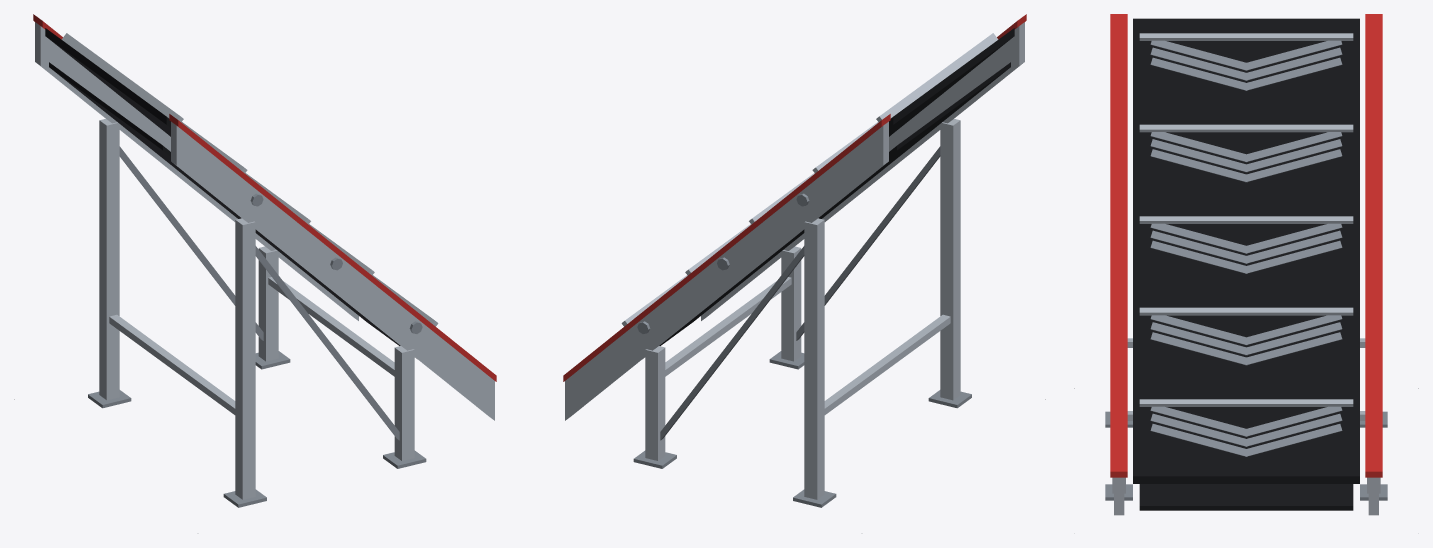
Rendered from convoyeur_rampe_descente_t3.glb.
3 views of the same model, side by side, from view 1: azimuth 30°, elevation 25°; view 2: azimuth 150°, elevation 25°; view 3: azimuth 270°, elevation 25° (orthographic). The views are drawn at different scales.
Visible parts, largest first — view 1: pieces_gris_clair.016, longeron_-1.024, pieces_acier.054, longeron_1.024, rive_-1.024, bande_gris_clair.004, tapis_retour.024, tapis_porteur.024; view 2: pieces_gris_clair.016, longeron_1.024, pieces_acier.054, longeron_-1.024, rive_1.024, bande_gris_clair.004, tapis_retour.024, tapis_porteur.024; view 3: tapis_porteur.024, bande_acier.048, bande_gris_clair.004, rive_1.024, rive_-1.024, tapis_retour.024, pieces_acier.054, longeron_1.024, longeron_-1.024.
Part boxes in pixels (<box>): pieces_gris_clair.016: <box>99,119,414,499</box>; longeron_-1.024: <box>171,121,494,420</box>; pieces_acier.054: <box>88,146,426,507</box>; longeron_1.024: <box>35,22,358,320</box>; rive_-1.024: <box>169,114,496,381</box>; bande_gris_clair.004: <box>61,33,438,326</box>; tapis_retour.024: <box>49,62,416,358</box>; tapis_porteur.024: <box>45,28,170,136</box>; pieces_gris_clair.016: <box>645,119,960,499</box>; longeron_1.024: <box>565,121,888,420</box>; pieces_acier.054: <box>633,146,971,507</box>; longeron_-1.024: <box>701,22,1024,320</box>; rive_1.024: <box>563,114,890,381</box>; bande_gris_clair.004: <box>621,33,998,326</box>; tapis_retour.024: <box>643,62,1010,358</box>; tapis_porteur.024: <box>889,28,1014,136</box>; tapis_porteur.024: <box>1133,18,1359,483</box>; bande_acier.048: <box>1150,40,1342,456</box>; bande_gris_clair.004: <box>1139,33,1353,406</box>; rive_1.024: <box>1365,14,1382,477</box>; rive_-1.024: <box>1110,14,1127,477</box>; tapis_retour.024: <box>1139,484,1353,510</box>; pieces_acier.054: <box>1105,411,1387,500</box>; longeron_1.024: <box>1368,477,1378,515</box>; longeron_-1.024: <box>1114,477,1124,515</box>.
Bounding box in the file's own units: 1 × 1.2 × 1.
